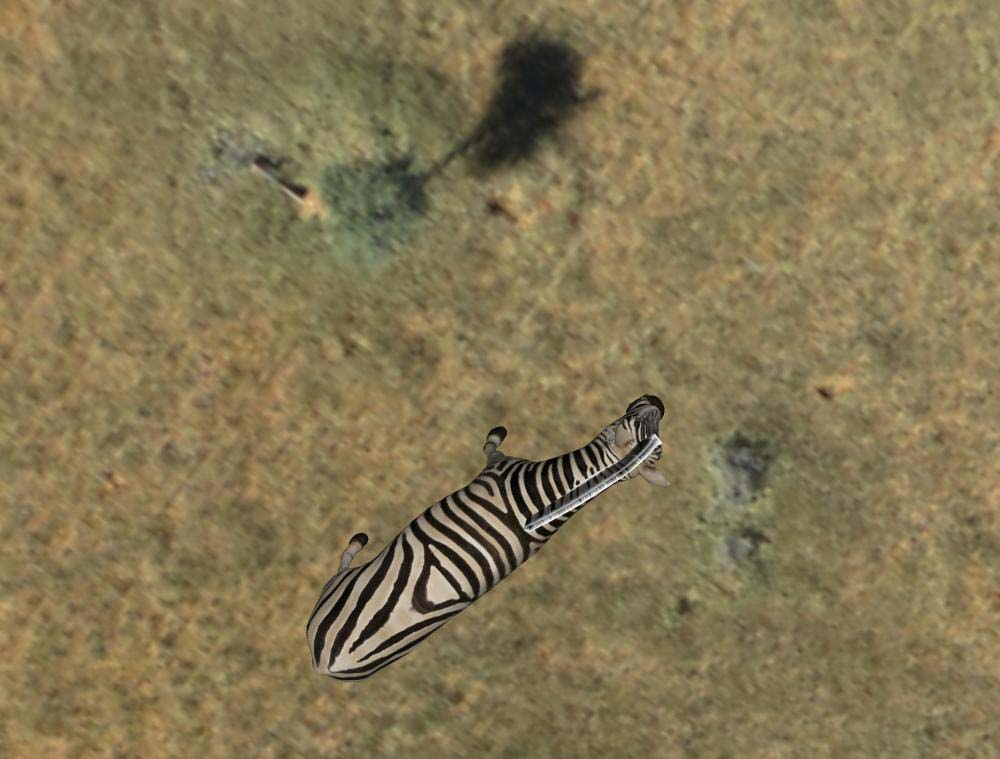zebra: (298, 383, 671, 683)
